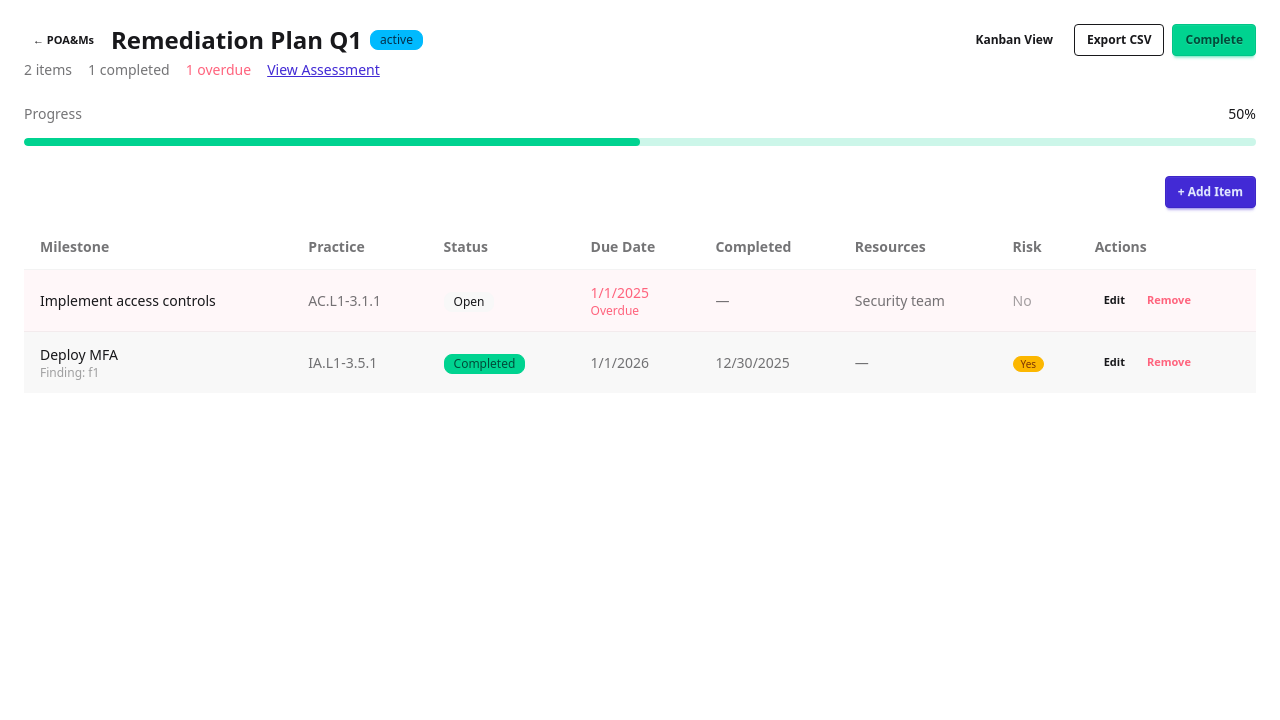
Test: POAMDetailPage › shows add item form on button click
Click the button "+ Add Item" at (1210, 192), box top-left (1165, 176), bottom-right (1256, 208)
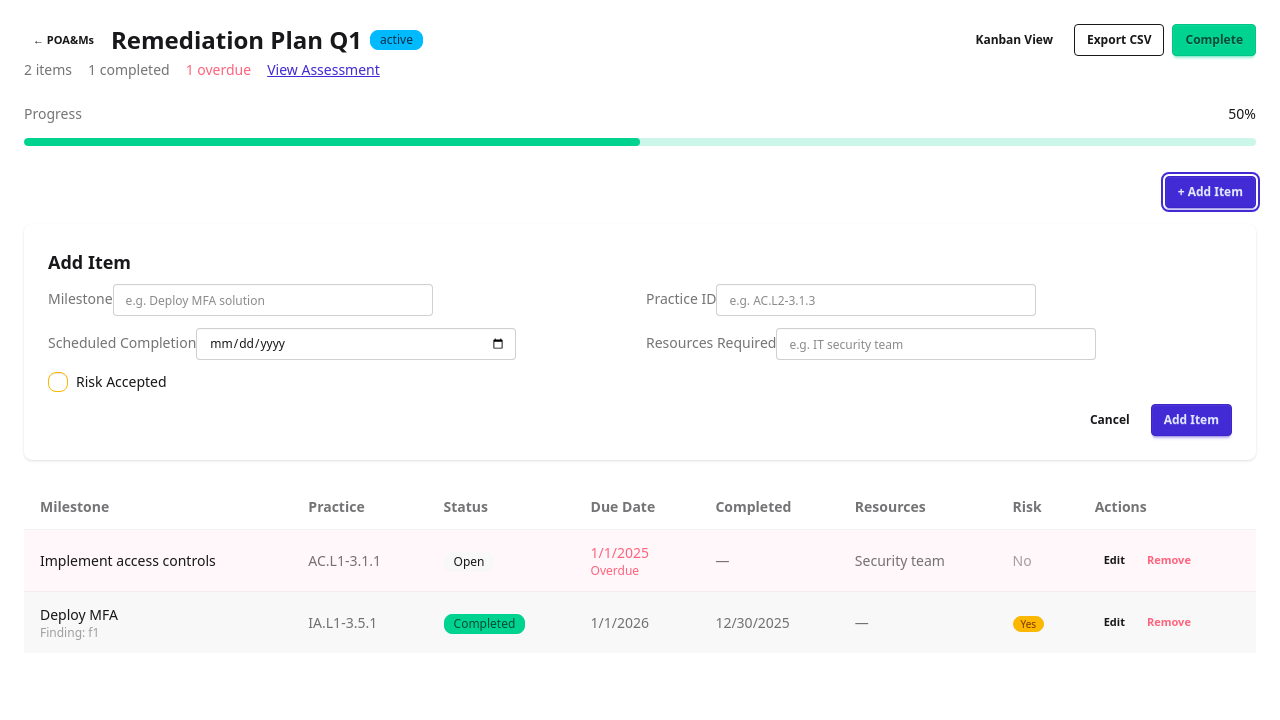
Check: the heading "Add Item" is shown, box top-left (48, 250), bottom-right (131, 274)
Check: the field with placeholder "e.g. Deploy MFA solution" is shown, box top-left (113, 284), bottom-right (433, 316)
